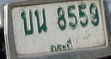txt20: (33, 7, 49, 34)
txt21: (19, 9, 35, 36)
